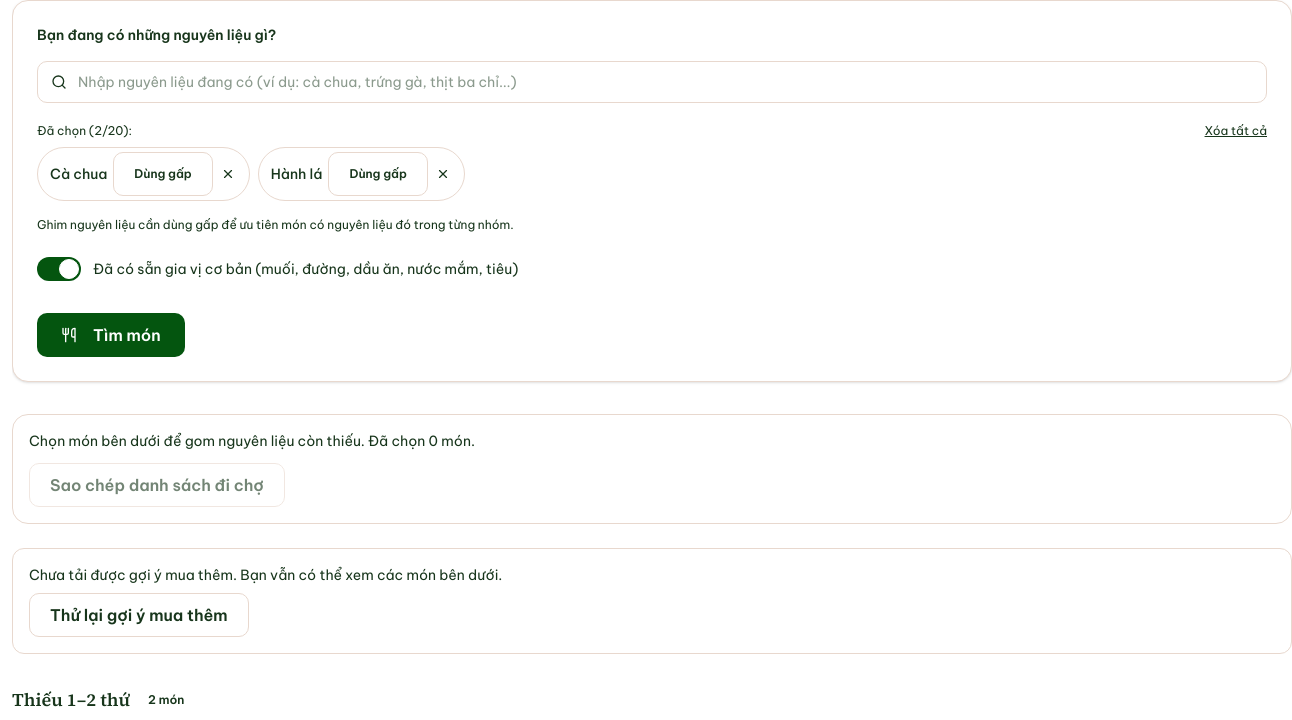
Test: FE11 in the real FE09 tab › retries BE12 errors without discarding matches or chips
The width and height of the screenshot is (1292, 720).
Click the button "Thử lại gợi ý mua thêm" at point(139, 615), box [29,593,248,637]
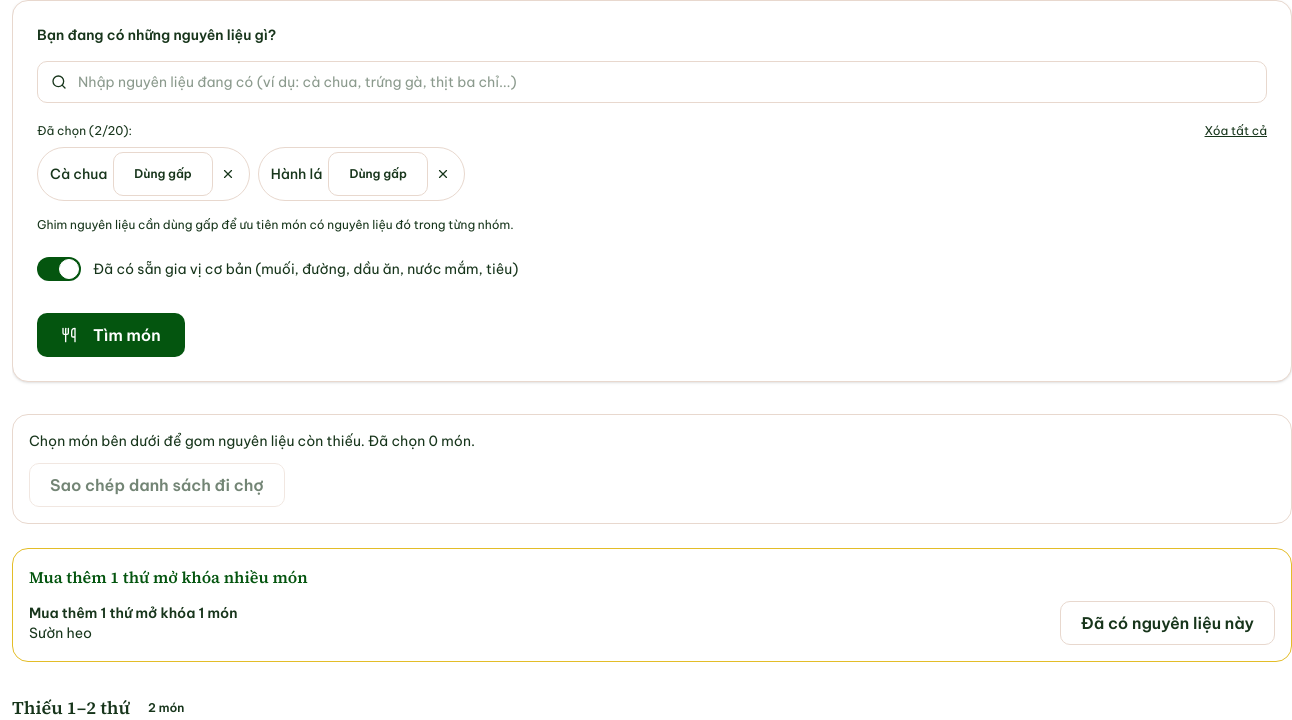
Expected: the button named "Bỏ Cà chua" is shown, [219,165,237,183]
Expected: the element named "Gợi ý mua thêm" is shown, [12,548,1291,662]
